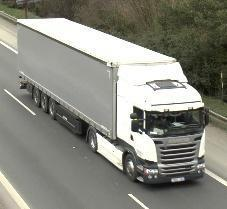truck: (19, 19, 207, 185)
